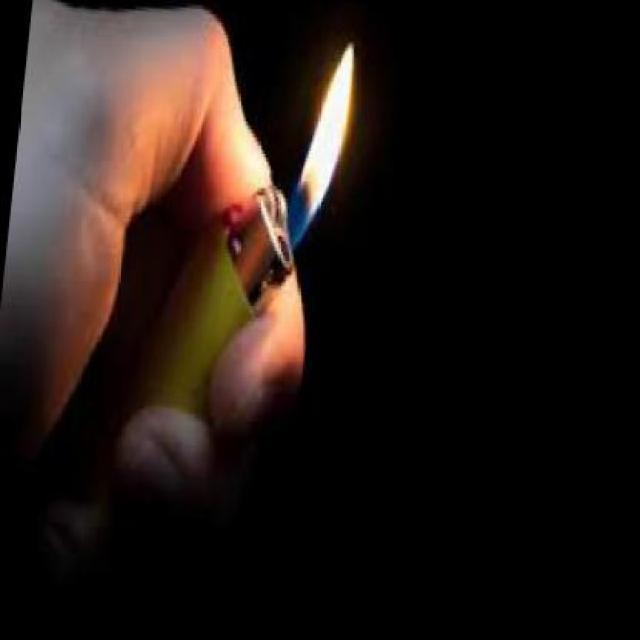Fire: (278, 43, 391, 254)
